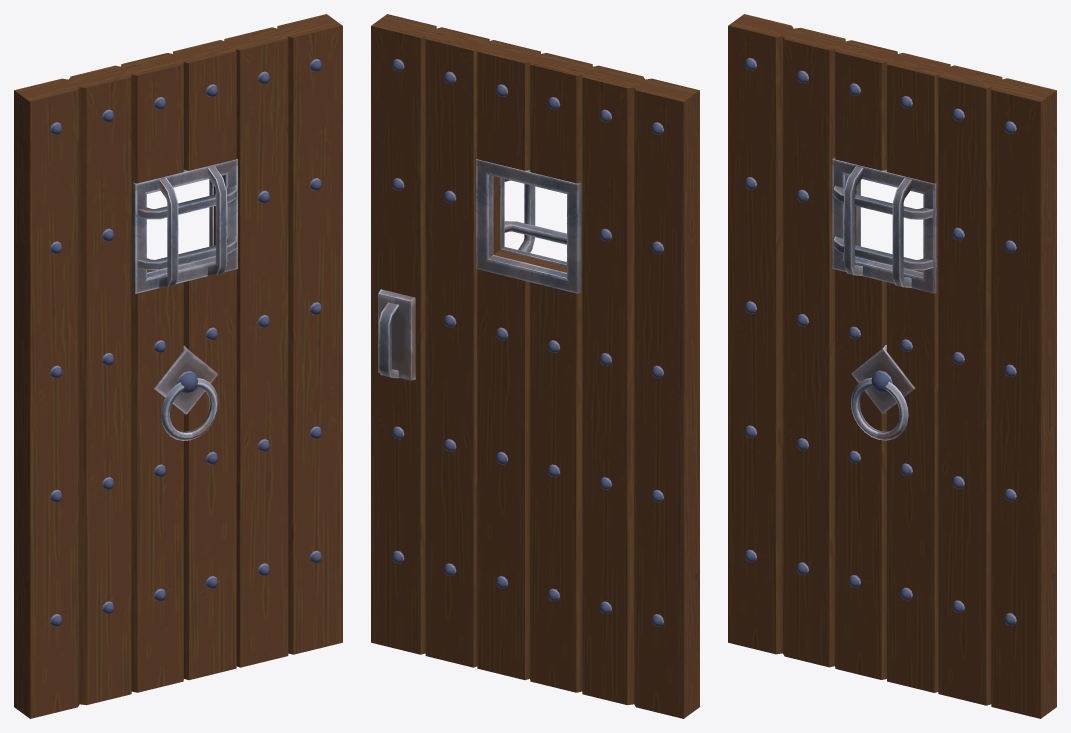
The model's file is Door_2_Flat.gltf.
3 views of the same model, side by side, from view 1: azimuth 30°, elevation 25°; view 2: azimuth 150°, elevation 25°; view 3: azimuth 330°, elevation 25° (orthographic).
Visible parts, largest first — view 1: Door_2_Flat; view 2: Door_2_Flat; view 3: Door_2_Flat.
Part boxes in pixels (bbox=[...]): Door_2_Flat: bbox=[14, 14, 342, 718]; Door_2_Flat: bbox=[371, 14, 699, 718]; Door_2_Flat: bbox=[728, 14, 1056, 718].
Size of the model in its own units: 1.11 by 2.1 by 0.2609.
Materials: 2 (2 with a texture image).
